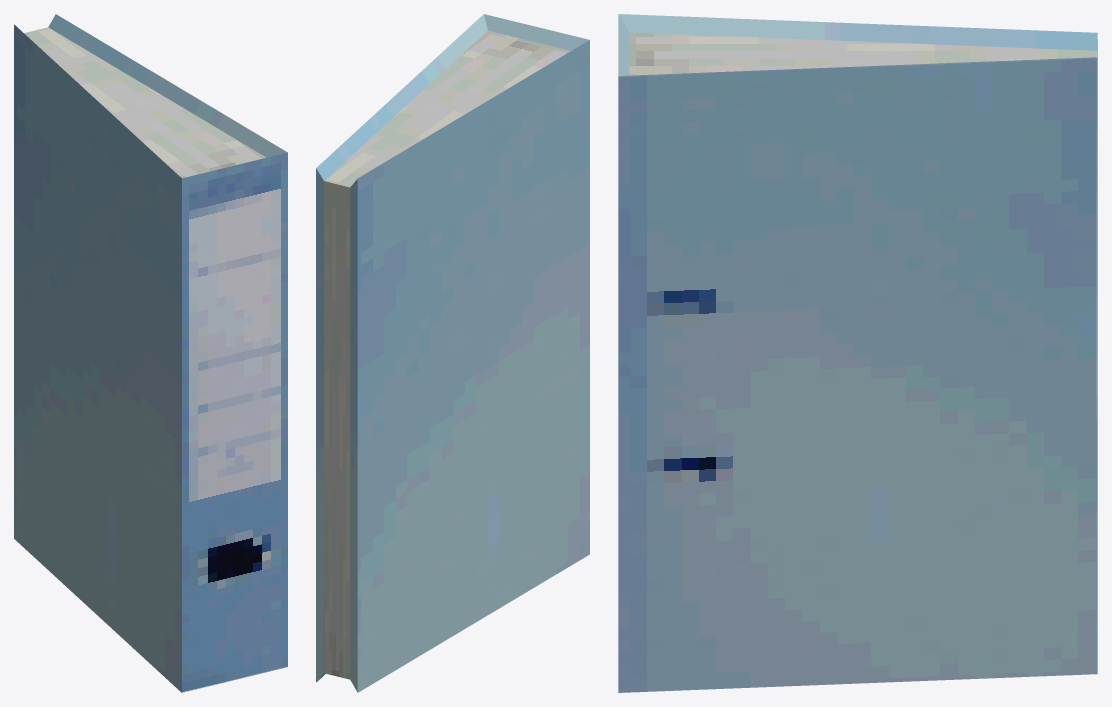
File: file_binder_alt3.glb
The picture shows the model from 3 angles, left to right: view 1: azimuth 30°, elevation 25°; view 2: azimuth 150°, elevation 25°; view 3: azimuth 270°, elevation 25°; orthographic projection. The views are drawn at different scales.
Parts seen in each view (by area): view 1: file_binder_alt3; view 2: file_binder_alt3; view 3: file_binder_alt3.
Boxes of the visible parts, bbox=[...] form: file_binder_alt3: bbox=[14, 14, 287, 692]; file_binder_alt3: bbox=[316, 14, 589, 692]; file_binder_alt3: bbox=[618, 14, 1097, 692].
Bounding box in the file's own units: 0.0911 × 0.4225 × 0.2975.
Materials: 1 (1 with a texture image).
